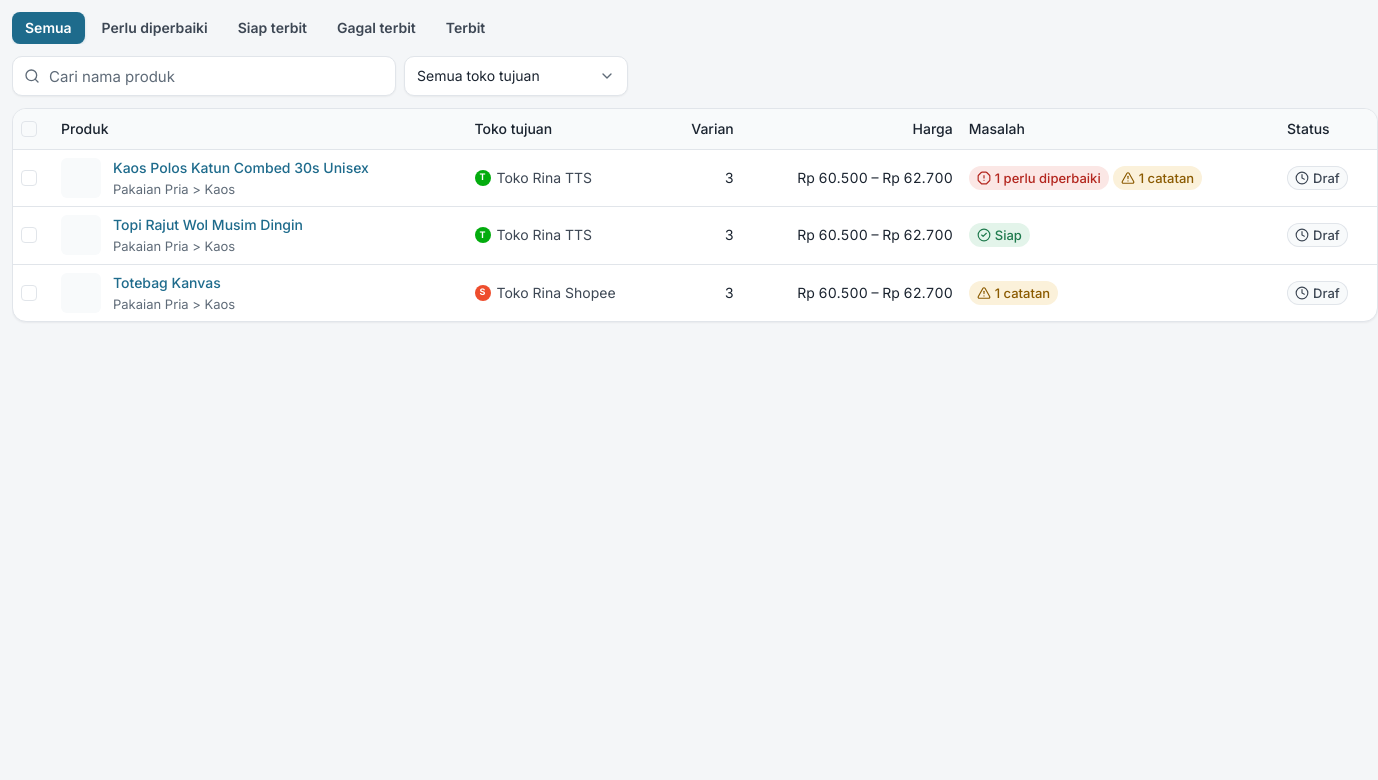
DraftsView › publishes only the drafts that can go
Click the checkbox named "Pilih Kaos Polos Katun Combed 30s Unisex": point(29, 178) [21,170,37,186]
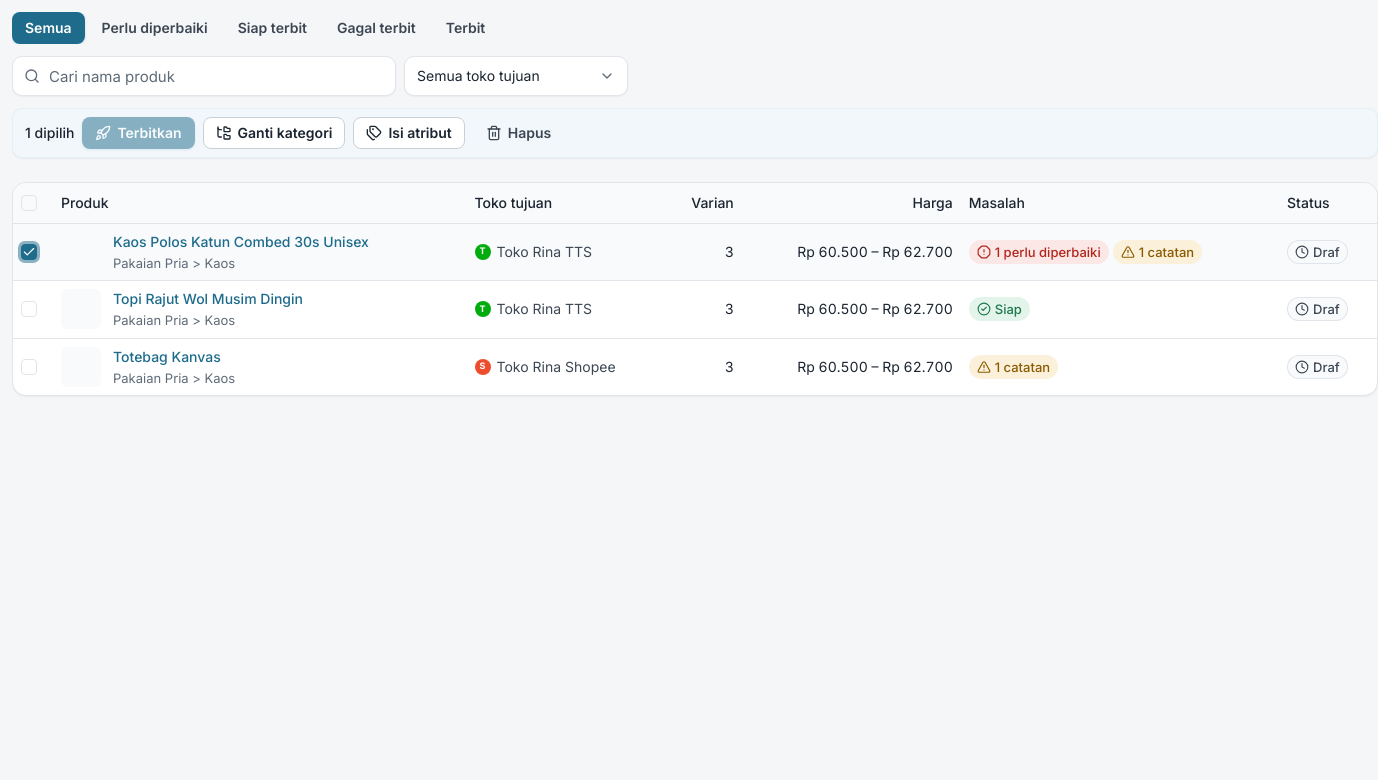
Click the checkbox named "Pilih Topi Rajut Wol Musim Dingin": point(29, 309) [21,301,37,317]
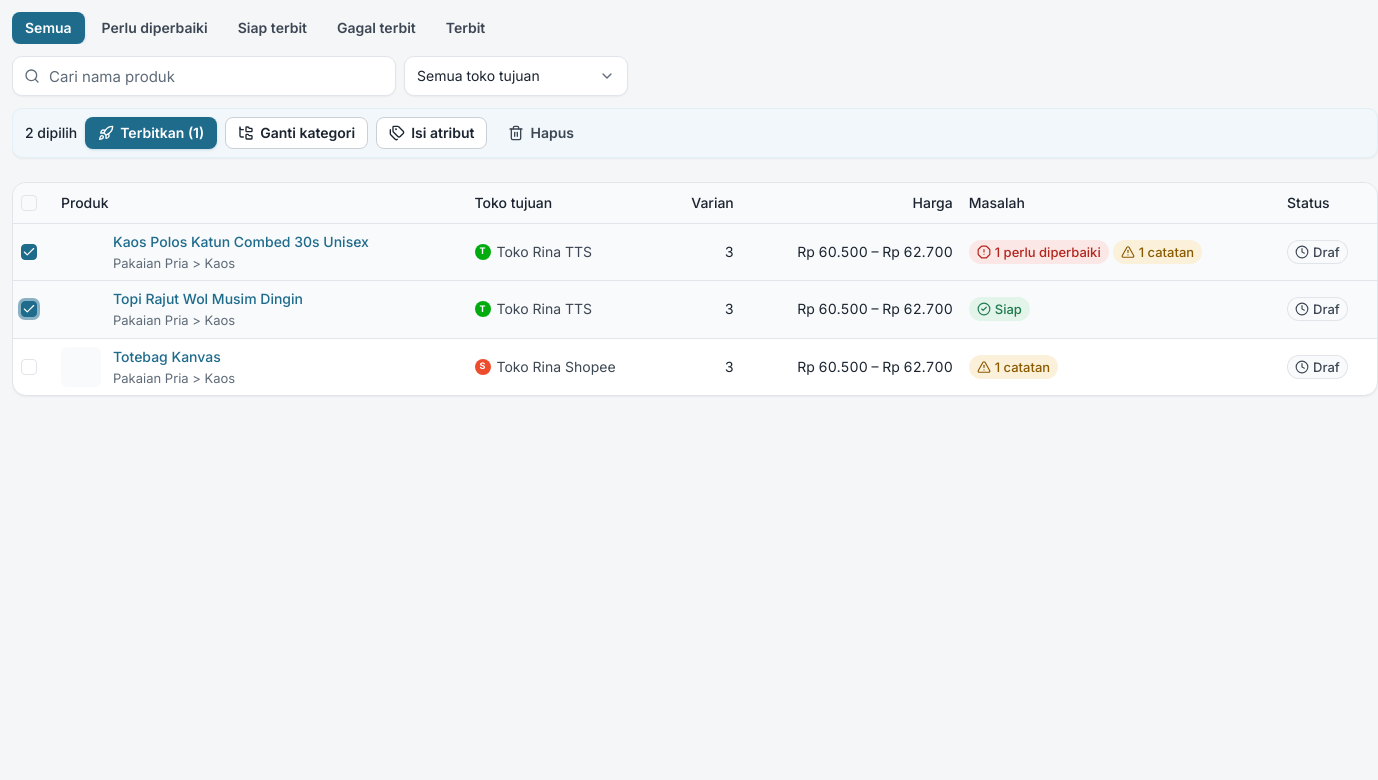
Click the button "Terbitkan (1)": point(151, 133) [85,117,217,149]
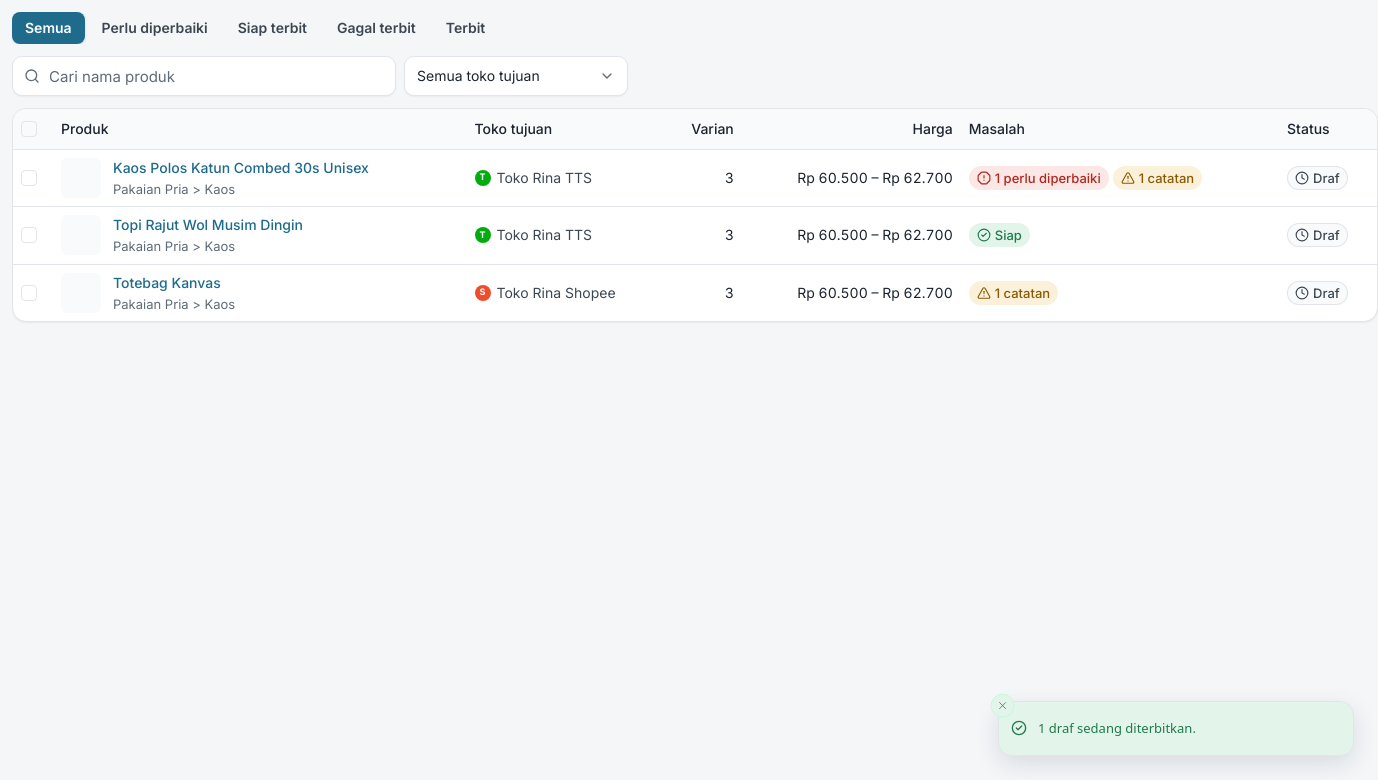
Now the text "1 draf sedang diterbitkan." is shown, box [1038,718,1196,739]
